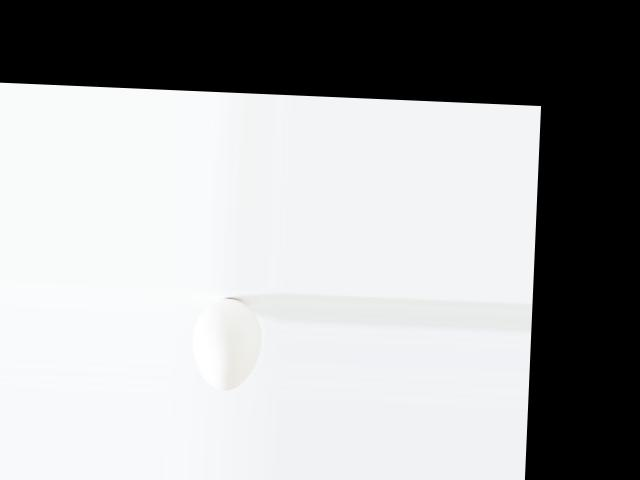egg: (190, 296, 262, 392)
